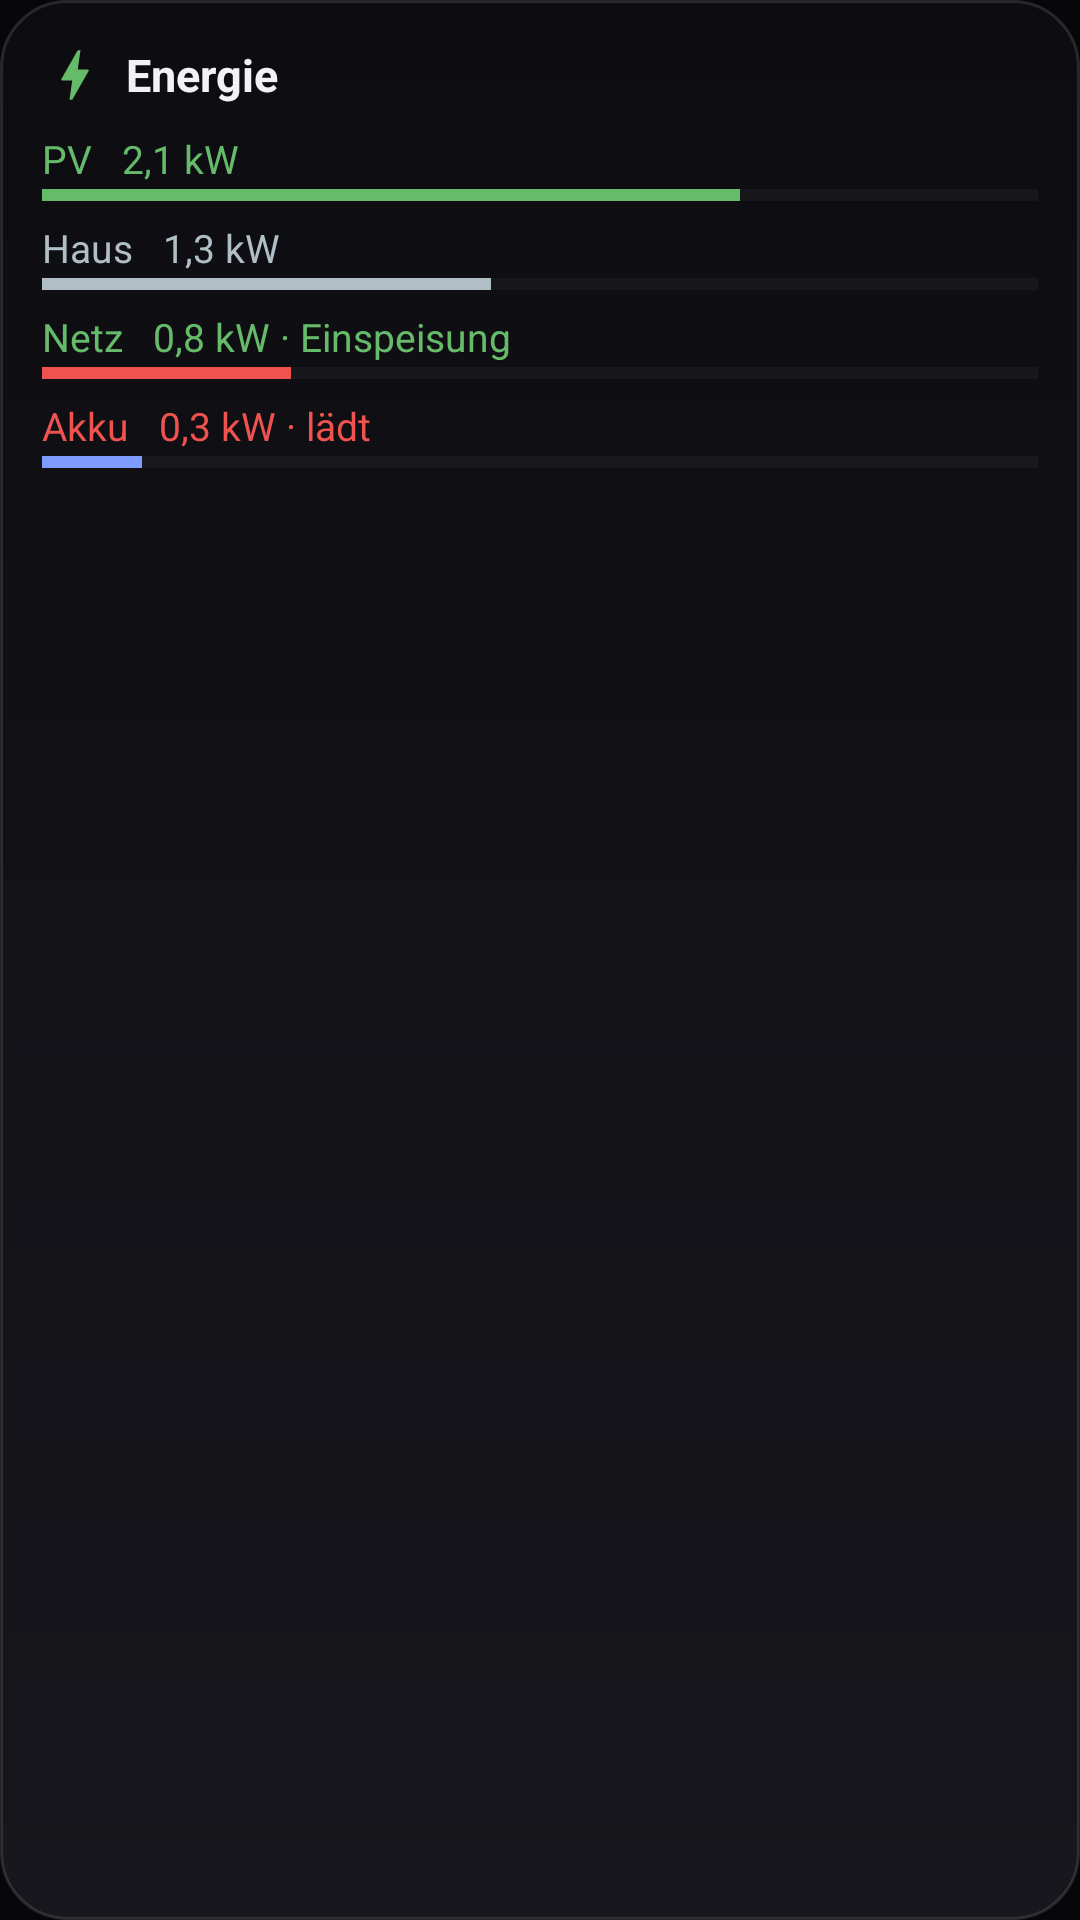

Icon bounding boxes for this 1080*1920 phone screenshot, format (x1, y1, x2, y2):
bolt: (61, 50, 89, 100)
